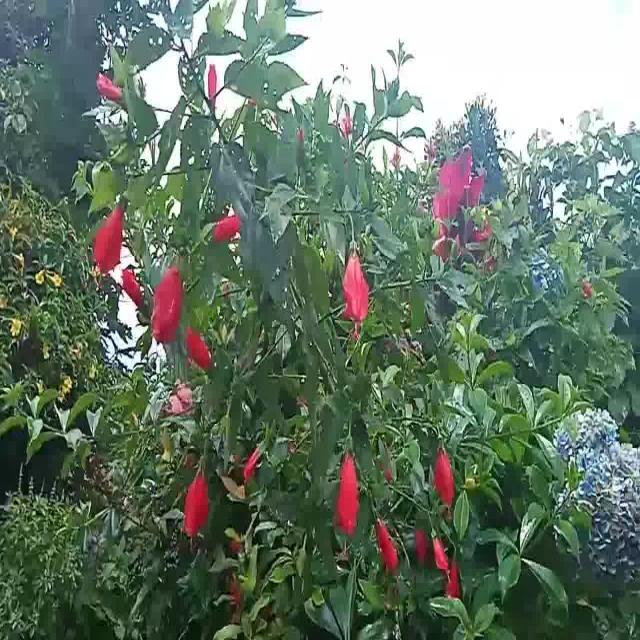Flower: (152, 262, 183, 350), (93, 198, 123, 276), (344, 244, 370, 328), (337, 438, 359, 537), (184, 461, 209, 543), (373, 511, 401, 575), (434, 437, 458, 511), (121, 265, 147, 317), (429, 529, 449, 577), (208, 212, 240, 242), (93, 72, 122, 103), (203, 61, 219, 108), (449, 550, 461, 598)
